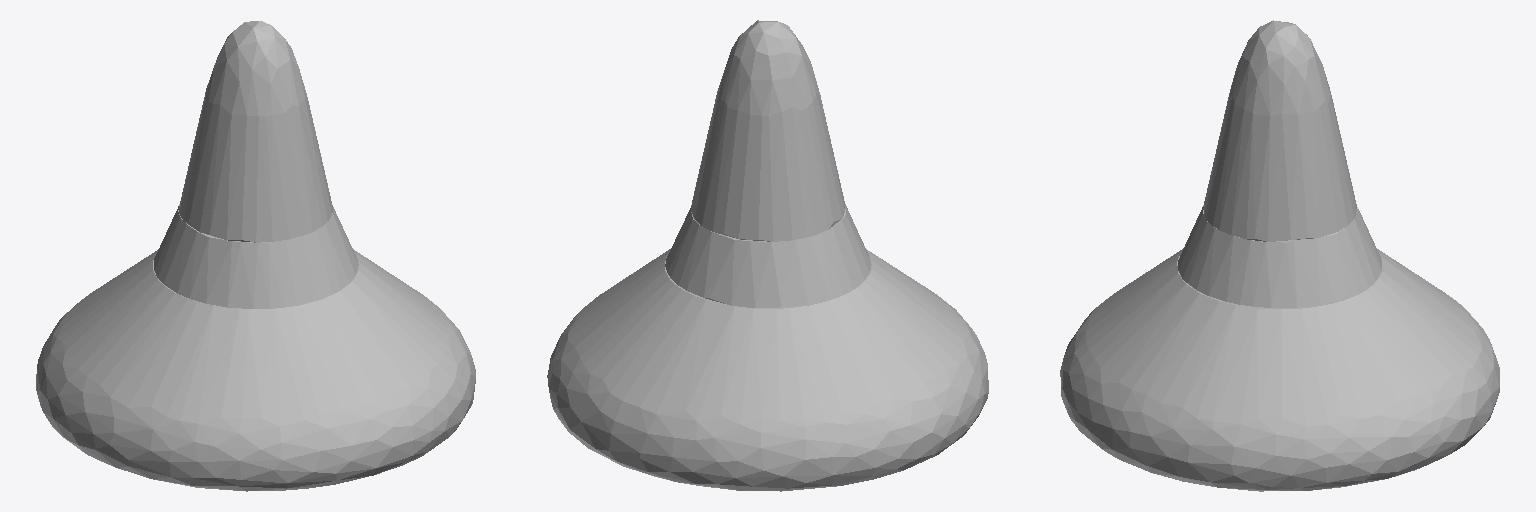
The robot description file, URDF, robot "root":
<robot name="root">
  <link name="link_hershey_convex_piece_0">
    <inertial>
      <origin xyz="0 0 0" rpy="0 0 0"/>
      <mass value="9.02E-03"/>
      <inertia ixx="1.31E-05" ixy="4.95E-11" ixz="-1.29E-09" iyy="1.31E-05" iyz="-1.45E-11" izz="5.89E-07"/>
    </inertial>
    <visual>
      <origin xyz="0 0 0" rpy="0 0 0"/>
      <geometry>
        <mesh filename="hershey_convex_piece_0.obj" scale="1.0000E+00 1.0000E+00 1.0000E+00"/>
      </geometry>
      <material name="">
        <color rgba="7.50E-01 7.50E-01 7.50E-01 1"/>
      </material>
    </visual>
    <collision>
      <origin xyz="0 0 0" rpy="0 0 0"/>
      <geometry>
        <mesh filename="hershey_convex_piece_0.obj" scale="1.0000E+00 1.0000E+00 1.0000E+00"/>
      </geometry>
    </collision>
  </link>
  <link name="link_hershey_convex_piece_1">
    <inertial>
      <origin xyz="0 0 0" rpy="0 0 0"/>
      <mass value="7.02E-03"/>
      <inertia ixx="2.61E-06" ixy="4.10E-10" ixz="2.17E-09" iyy="2.61E-06" iyz="1.30E-09" izz="9.74E-07"/>
    </inertial>
    <visual>
      <origin xyz="0 0 0" rpy="0 0 0"/>
      <geometry>
        <mesh filename="hershey_convex_piece_1.obj" scale="1.0000E+00 1.0000E+00 1.0000E+00"/>
      </geometry>
      <material name="">
        <color rgba="7.50E-01 7.50E-01 7.50E-01 1"/>
      </material>
    </visual>
    <collision>
      <origin xyz="0 0 0" rpy="0 0 0"/>
      <geometry>
        <mesh filename="hershey_convex_piece_1.obj" scale="1.0000E+00 1.0000E+00 1.0000E+00"/>
      </geometry>
    </collision>
  </link>
  <joint name="link_hershey_convex_piece_1_joint" type="fixed">
    <origin xyz="0 0 0" rpy="0 0 0"/>
    <parent link="link_hershey_convex_piece_0"/>
    <child link="link_hershey_convex_piece_1"/>
  </joint>
  <link name="link_hershey_convex_piece_2">
    <inertial>
      <origin xyz="0 0 0" rpy="0 0 0"/>
      <mass value="7.69E-02"/>
      <inertia ixx="3.13E-05" ixy="2.43E-09" ixz="7.82E-10" iyy="3.14E-05" iyz="-3.38E-09" izz="4.94E-05"/>
    </inertial>
    <visual>
      <origin xyz="0 0 0" rpy="0 0 0"/>
      <geometry>
        <mesh filename="hershey_convex_piece_2.obj" scale="1.0000E+00 1.0000E+00 1.0000E+00"/>
      </geometry>
      <material name="">
        <color rgba="7.50E-01 7.50E-01 7.50E-01 1"/>
      </material>
    </visual>
    <collision>
      <origin xyz="0 0 0" rpy="0 0 0"/>
      <geometry>
        <mesh filename="hershey_convex_piece_2.obj" scale="1.0000E+00 1.0000E+00 1.0000E+00"/>
      </geometry>
    </collision>
  </link>
  <joint name="link_hershey_convex_piece_2_joint" type="fixed">
    <origin xyz="0 0 0" rpy="0 0 0"/>
    <parent link="link_hershey_convex_piece_1"/>
    <child link="link_hershey_convex_piece_2"/>
  </joint>
</robot>

--- Facts derived from the render (not from the file) ---
The picture shows the robot from 3 angles, left to right: view 1: azimuth 30°, elevation 25°; view 2: azimuth 150°, elevation 25°; view 3: azimuth 270°, elevation 25°; orthographic projection.
Robot: root — 3 links, 2 joints (2 fixed); root link link_hershey_convex_piece_0; default pose: all joints at 0.
Links seen in each view (by area): view 1: link_hershey_convex_piece_2, link_hershey_convex_piece_0, link_hershey_convex_piece_1; view 2: link_hershey_convex_piece_2, link_hershey_convex_piece_0, link_hershey_convex_piece_1; view 3: link_hershey_convex_piece_2, link_hershey_convex_piece_0, link_hershey_convex_piece_1.
Link boxes in pixels (x1,y1,x2,y2): link_hershey_convex_piece_2: [36, 249, 475, 491]; link_hershey_convex_piece_0: [179, 21, 332, 242]; link_hershey_convex_piece_1: [154, 204, 358, 308]; link_hershey_convex_piece_2: [547, 249, 988, 491]; link_hershey_convex_piece_0: [691, 20, 844, 241]; link_hershey_convex_piece_1: [665, 204, 871, 307]; link_hershey_convex_piece_2: [1060, 248, 1499, 491]; link_hershey_convex_piece_0: [1203, 20, 1356, 241]; link_hershey_convex_piece_1: [1178, 205, 1381, 307].
Bounding box of the posed robot: 0.0803 × 0.0801 × 0.0781 m (x, y, z).
3 mesh visuals loaded from 3 distinct referenced files (3 OBJ).
